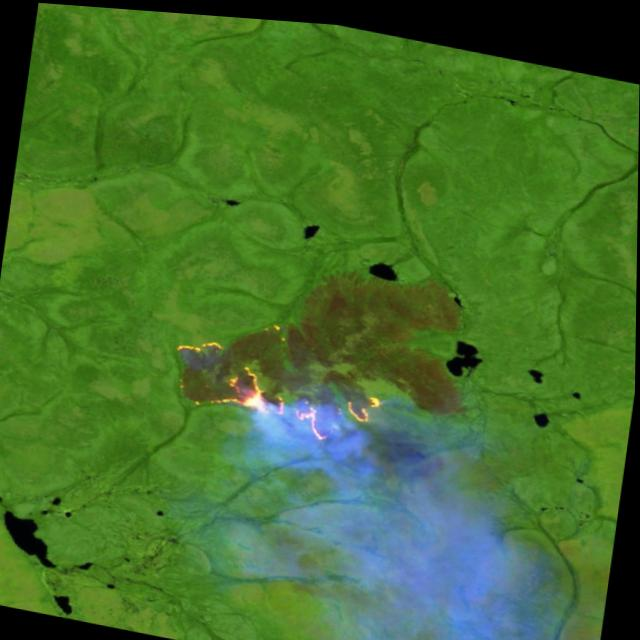fire: (167, 328, 391, 450)
